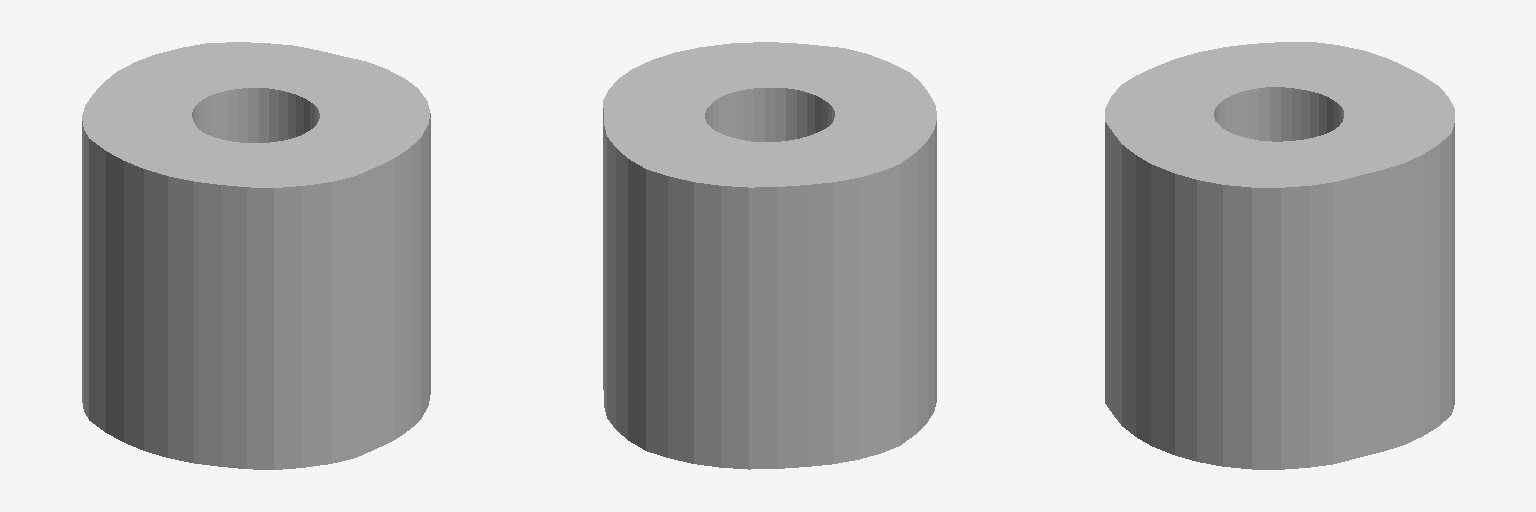
The model's file is ToiletPaperRoll.obj.
The picture shows the model from 3 angles: view 1: azimuth 30°, elevation 25°; view 2: azimuth 150°, elevation 25°; view 3: azimuth 270°, elevation 25°; orthographic projection.
Visible parts, largest first — view 1: ToiletPaperRoll; view 2: ToiletPaperRoll; view 3: ToiletPaperRoll.
Part boxes in pixels (bbox=[...]): ToiletPaperRoll: bbox=[82, 42, 430, 469]; ToiletPaperRoll: bbox=[603, 42, 936, 469]; ToiletPaperRoll: bbox=[1105, 42, 1454, 469].
Bounding box in the file's own units: 4.28 × 3.86 × 4.34.